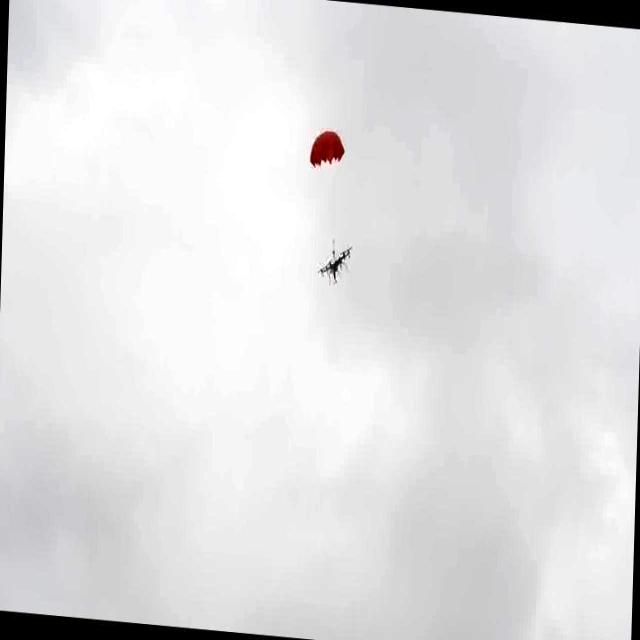drone: (314, 243, 354, 288)
